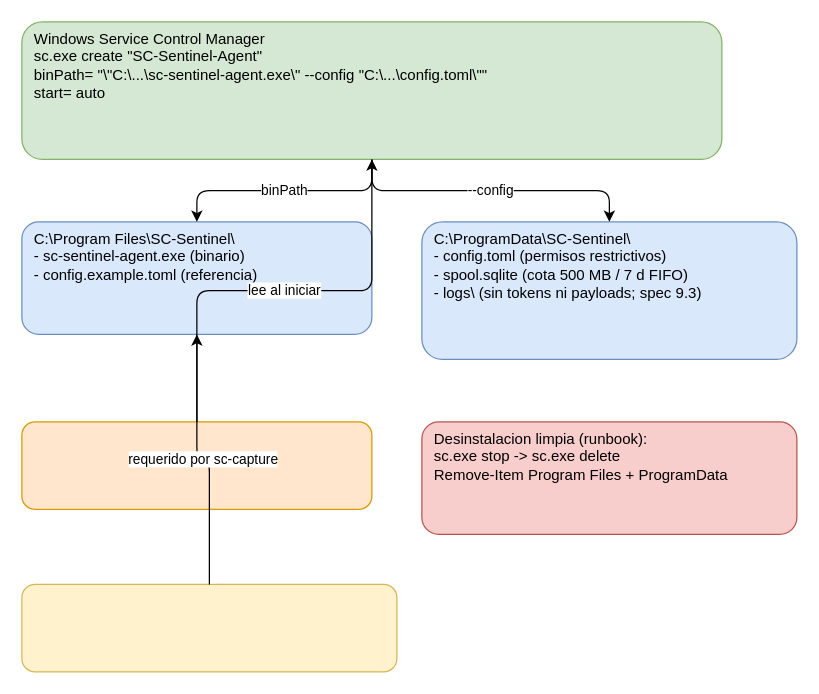
Image size: 819x694. Some labels were removed from this diagram. The shapes that lost their labels are listed below. From the top down, each one's centre as x and y in pixels, then its label:
At point (196, 465): "SC_INGEST_TOKEN (env del servicio) token plano nunca en config.toml en prod".
At point (209, 627): "Prerrequisito: Npcap instalado (NO se redistribuye; se pide al usuario)".
